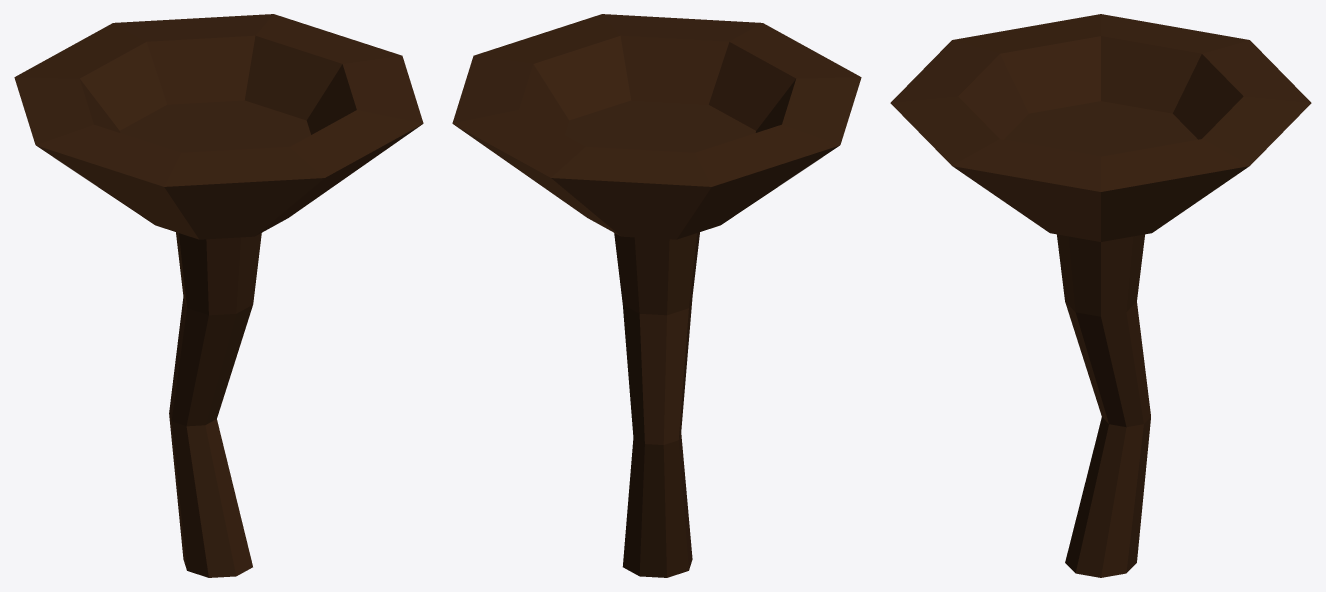
Rendered from torch_type_03.fbx.
3 views of the same model, side by side, from view 1: azimuth 30°, elevation 25°; view 2: azimuth 150°, elevation 25°; view 3: azimuth 270°, elevation 25° (orthographic).
Visible parts, largest first — view 1: torch_type_03; view 2: torch_type_03; view 3: torch_type_03.
Part boxes in pixels (x1=…): torch_type_03: x1=14, y1=14, x2=423, y2=577; torch_type_03: x1=452, y1=14, x2=861, y2=577; torch_type_03: x1=890, y1=14, x2=1311, y2=577.
Bounding box in the file's own units: 24.64 × 30.09 × 24.64.
